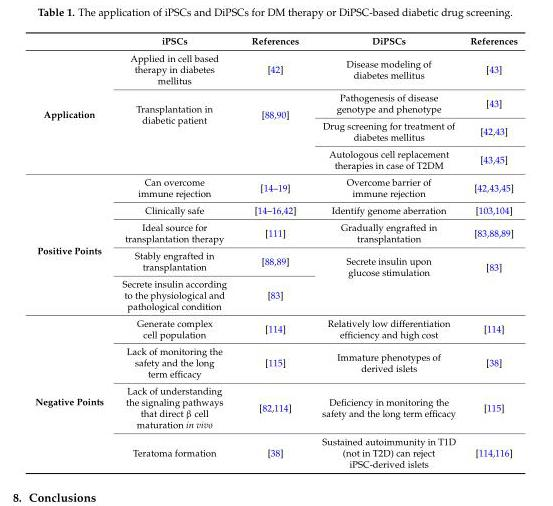table: (34, 34, 516, 469)
table column: (309, 34, 462, 469), (112, 34, 238, 469), (34, 34, 112, 469), (238, 34, 309, 469), (462, 34, 516, 469)
table column header: (34, 34, 516, 49)
table row: (34, 381, 516, 432), (34, 274, 516, 314), (34, 49, 516, 88), (34, 342, 516, 381), (34, 432, 516, 469), (34, 116, 516, 145), (34, 88, 516, 116), (34, 145, 516, 173), (34, 173, 516, 201), (34, 218, 516, 246), (34, 246, 516, 274), (34, 314, 516, 342), (34, 201, 516, 218), (34, 34, 516, 49)
table spanning cell: (34, 314, 112, 469), (34, 173, 112, 314), (112, 88, 238, 173), (309, 246, 462, 314), (34, 49, 112, 173), (238, 88, 309, 173), (462, 246, 516, 314)
